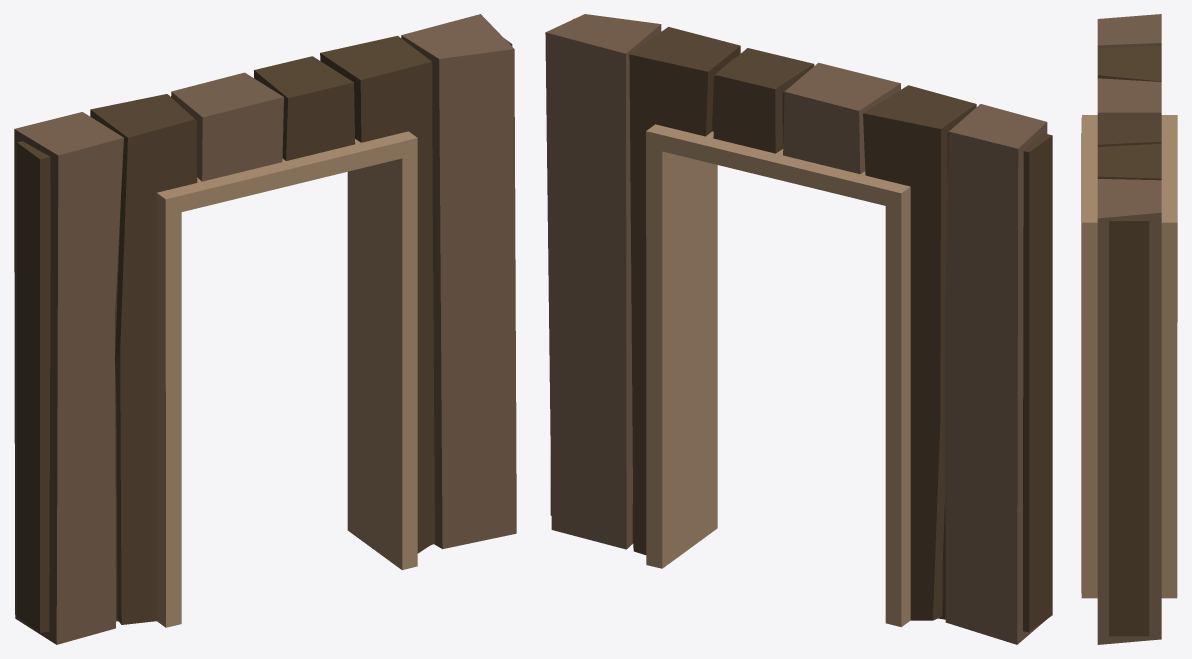
The model's file is enchantedforest_wall_wood_door_1.fbx.
3 views of the same model, side by side, from view 1: azimuth 30°, elevation 25°; view 2: azimuth 150°, elevation 25°; view 3: azimuth 270°, elevation 25° (orthographic). The views are drawn at different scales.
Visible parts, largest first — view 1: Cube.009; view 2: Cube.009; view 3: Cube.009.
Boxes of the visible parts, <box> form: Cube.009: <box>14,14,516,644</box>; Cube.009: <box>545,14,1052,644</box>; Cube.009: <box>1081,14,1177,644</box>.
Bounding box in the file's own units: 3 × 3 × 0.6028.
